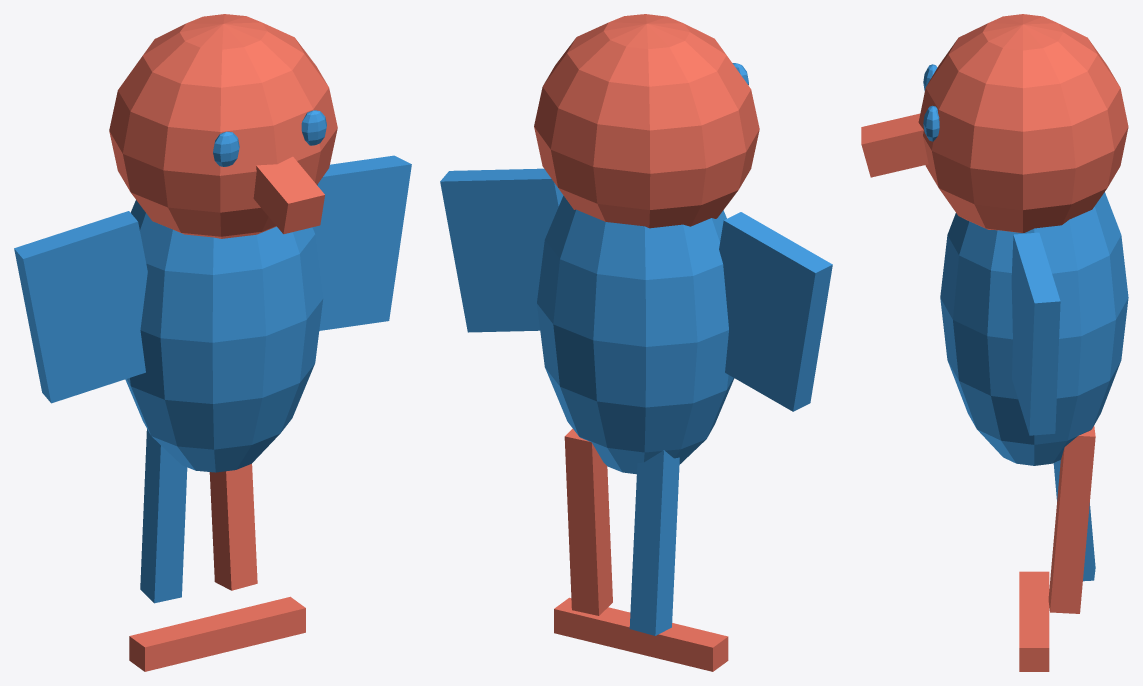
File: PLACEHOLDER_Arara.fbx
3 renders of one model, left to right at view 1: azimuth 30°, elevation 25°; view 2: azimuth 150°, elevation 25°; view 3: azimuth 270°, elevation 25°, orthographic. The views are drawn at different scales.
Visible parts, largest first — view 1: Arara_Body, Arara_Head, Arara_Wing_L, Arara_Wing_R, Arara_Perch, Arara_Tail_L, Arara_Tail_R, Arara_Beak, Arara_Eye_L, Arara_Eye_R; view 2: Arara_Body, Arara_Head, Arara_Wing_L, Arara_Wing_R, Arara_Tail_L, Arara_Tail_R, Arara_Perch; view 3: Arara_Head, Arara_Body, Arara_Wing_R, Arara_Tail_R, Arara_Beak, Arara_Perch, Arara_Tail_L, Arara_Eye_R.
Boxes of the visible parts, x1,y1,x2,y2 form: Arara_Body: (125, 200, 323, 472); Arara_Head: (109, 14, 337, 238); Arara_Wing_L: (14, 211, 147, 403); Arara_Wing_R: (312, 155, 411, 330); Arara_Perch: (129, 596, 305, 671); Arara_Tail_L: (140, 429, 187, 603); Arara_Tail_R: (209, 464, 257, 590); Arara_Beak: (253, 156, 324, 234); Arara_Eye_L: (213, 131, 239, 166); Arara_Eye_R: (301, 110, 326, 145); Arara_Body: (537, 195, 734, 474); Arara_Head: (534, 14, 759, 228); Arara_Wing_L: (719, 212, 832, 411); Arara_Wing_R: (440, 168, 563, 332); Arara_Tail_L: (629, 450, 679, 635); Arara_Tail_R: (564, 428, 612, 615); Arara_Perch: (554, 597, 728, 671); Arara_Head: (918, 14, 1128, 232); Arara_Body: (940, 192, 1128, 465); Arara_Wing_R: (1011, 232, 1060, 435); Arara_Tail_R: (1048, 425, 1095, 613); Arara_Beak: (861, 113, 928, 177); Arara_Perch: (1019, 571, 1049, 671); Arara_Tail_L: (1053, 460, 1095, 581); Arara_Eye_R: (923, 105, 939, 141).
Bounding box in the file's own units: 116 × 179 × 70.93.
